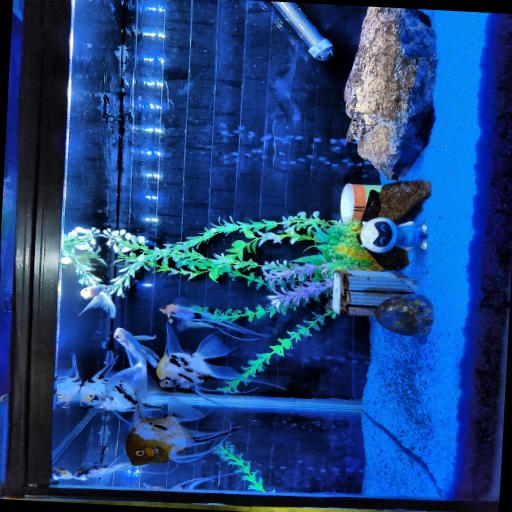Fish: (126, 396, 239, 464), (157, 322, 258, 394), (160, 299, 269, 337), (106, 327, 160, 393), (80, 357, 137, 411), (52, 409, 97, 463), (74, 454, 130, 479), (55, 354, 81, 406), (80, 282, 116, 317), (170, 472, 235, 489), (52, 467, 73, 479)
